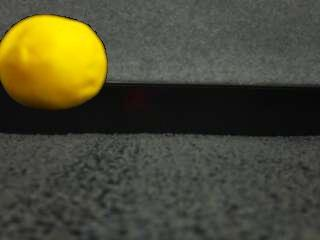Lemon: (0, 15, 110, 112)
